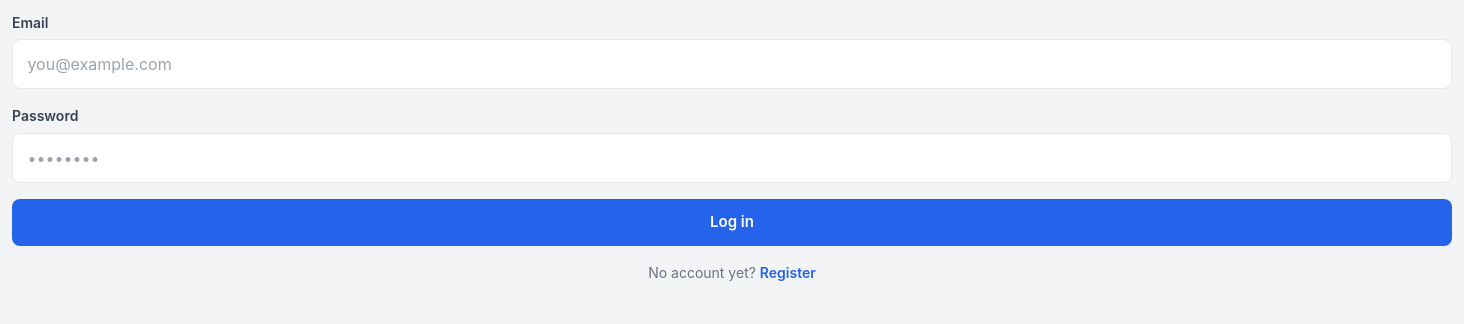
LoginForm › shows validation error message from API
Step 1. Type "user@invalid.com" into the field labelled "Email" → (732, 64), box [12,39,1452,89]
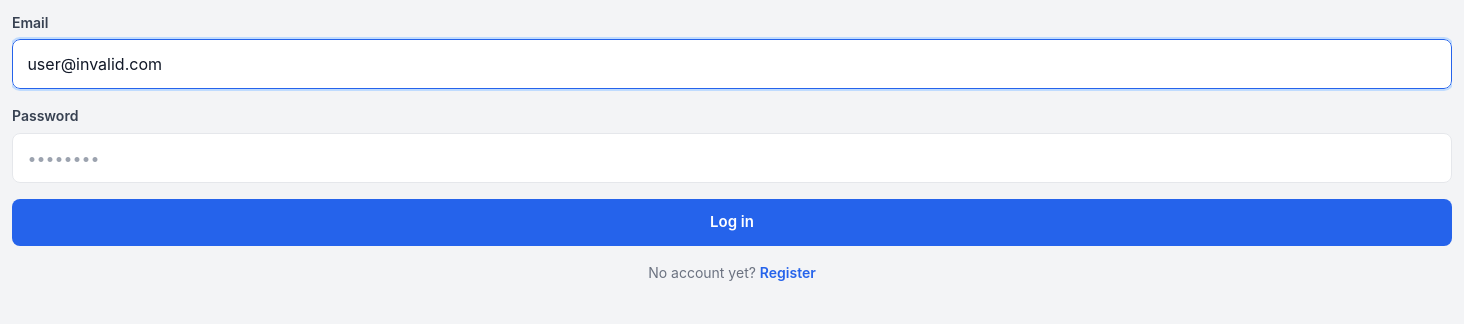
Step 2. Type "secret1" into the password field labelled "Password" → (732, 158), box [12,133,1452,183]
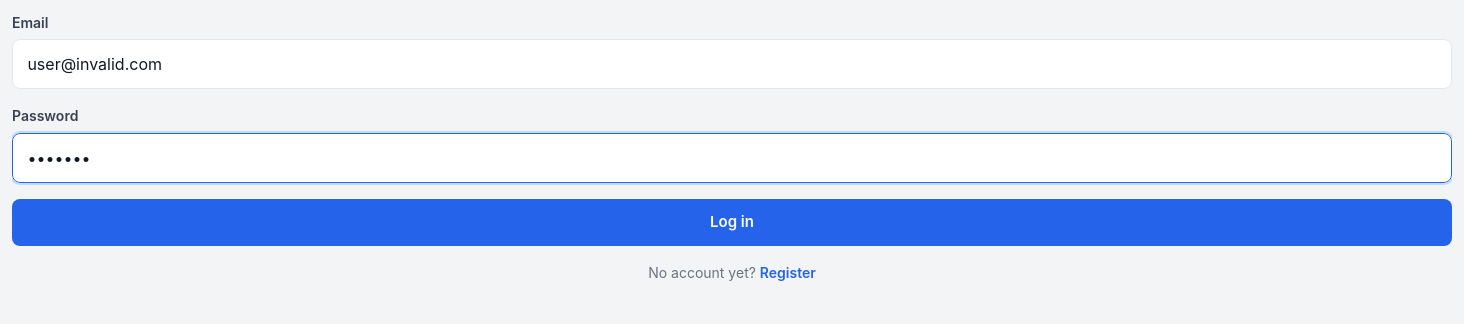
Step 3. Click the button "Log in" → (732, 222), box [12,199,1452,246]
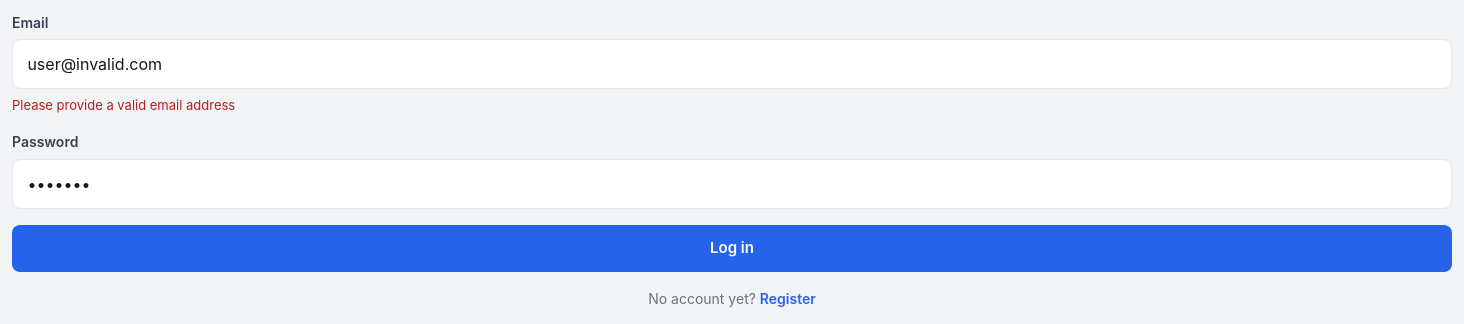
Result: the text "Please provide a valid email address" is shown at [12,97,235,113]
